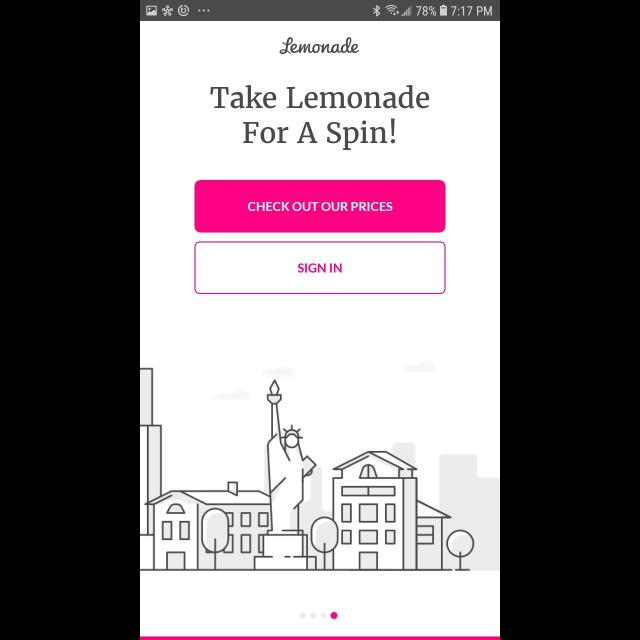image: (140, 368, 500, 572), (280, 37, 360, 55)
pageindicator: (300, 612, 338, 620)
text: (210, 85, 430, 151)
textbutton: (194, 180, 446, 233), (194, 242, 446, 294)
uppertaskbar: (140, 1, 500, 22)
